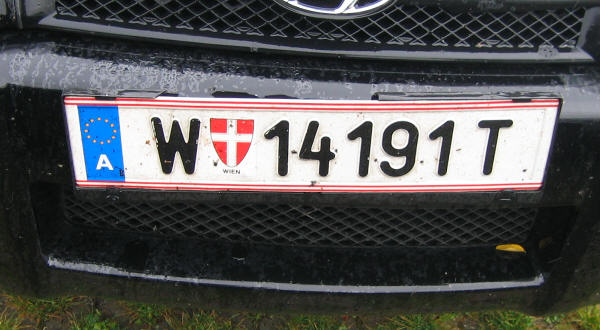license_plate: (61, 94, 560, 194)
